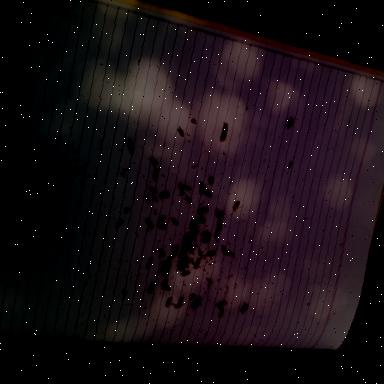pbw: (220, 122, 231, 143), (126, 136, 138, 155), (192, 296, 202, 312), (175, 183, 186, 197), (205, 250, 216, 264), (182, 232, 192, 246), (4, 237, 14, 251), (172, 243, 180, 260), (217, 300, 228, 312), (148, 157, 160, 168), (159, 190, 171, 201), (182, 184, 193, 196), (152, 168, 160, 184), (175, 260, 184, 274), (227, 249, 238, 260), (74, 166, 84, 178), (182, 194, 194, 204), (156, 222, 168, 232), (176, 126, 186, 138), (288, 116, 296, 130), (199, 182, 207, 196), (232, 200, 240, 214), (161, 264, 169, 278), (146, 256, 154, 270), (144, 217, 154, 228), (198, 214, 208, 225), (115, 219, 124, 231), (194, 258, 203, 270), (160, 283, 172, 292), (148, 282, 157, 294), (182, 241, 191, 253), (166, 255, 174, 268), (178, 247, 186, 260), (181, 270, 191, 280), (202, 230, 212, 240), (200, 207, 210, 217), (198, 248, 206, 260), (121, 168, 129, 180), (182, 249, 190, 261), (104, 342, 112, 354), (179, 264, 188, 274), (156, 248, 166, 257), (158, 215, 167, 225), (170, 217, 180, 226), (214, 208, 222, 219), (164, 266, 171, 278), (214, 228, 221, 240), (177, 297, 184, 309), (242, 303, 249, 315), (218, 307, 225, 319), (109, 342, 115, 356), (151, 194, 160, 203), (204, 190, 214, 198), (182, 258, 192, 266), (144, 195, 152, 205), (222, 246, 230, 256), (162, 278, 170, 288), (96, 341, 106, 349), (148, 342, 158, 350), (219, 209, 226, 220), (166, 296, 172, 308), (162, 260, 168, 272), (202, 237, 212, 244), (192, 224, 199, 234), (218, 220, 224, 231), (79, 340, 90, 346), (196, 217, 204, 225), (187, 246, 195, 254), (150, 187, 158, 194), (207, 279, 214, 286), (190, 118, 198, 124), (190, 258, 196, 266), (190, 293, 196, 301), (188, 344, 196, 350), (190, 219, 194, 230), (124, 207, 130, 214), (183, 263, 190, 269)
